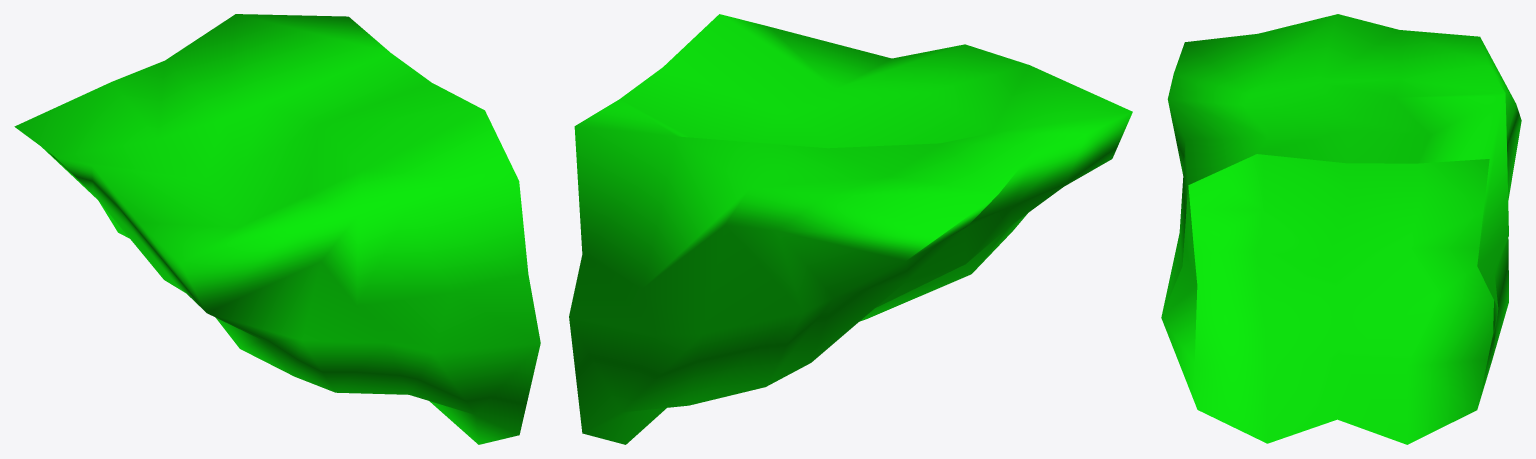
File: SmallWallAttachment01_mesh.fbx
3 renders of one model, left to right at view 1: azimuth 30°, elevation 25°; view 2: azimuth 150°, elevation 25°; view 3: azimuth 270°, elevation 25°, orthographic. The views are drawn at different scales.
Visible parts, largest first — view 1: Small_wallattachment01_model; view 2: Small_wallattachment01_model; view 3: Small_wallattachment01_model.
Boxes of the visible parts, bbox=[...] form: Small_wallattachment01_model: bbox=[14, 14, 540, 444]; Small_wallattachment01_model: bbox=[569, 14, 1132, 444]; Small_wallattachment01_model: bbox=[1161, 14, 1521, 444].
Bounding box in the file's own units: 6.11 × 6.01 × 6.44.
